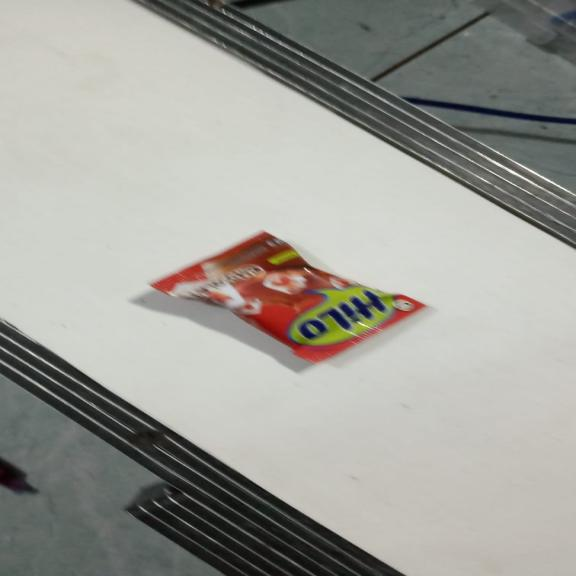Plastik: (148, 230, 430, 365)
